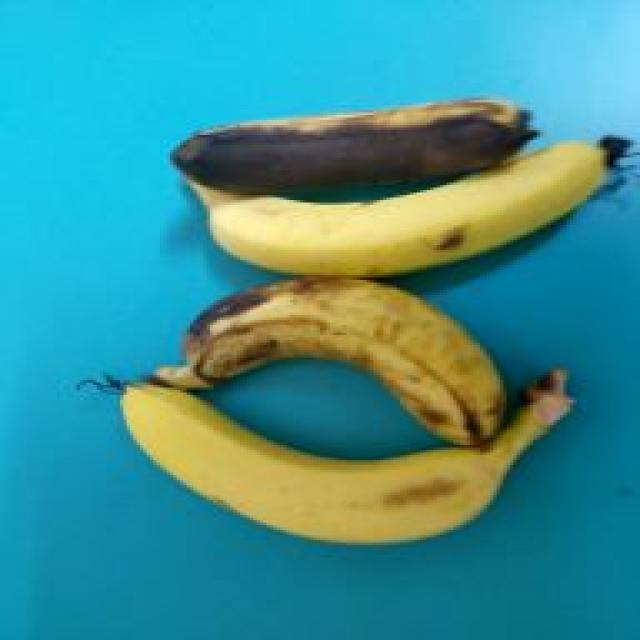Organik: (98, 362, 602, 555), (130, 268, 527, 442), (187, 137, 629, 281), (155, 94, 552, 194)
